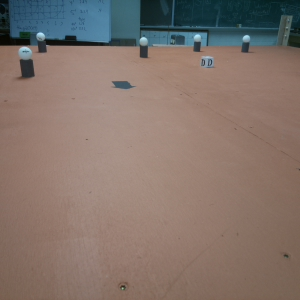blockD: (200, 55, 213, 68)
corner: (280, 15, 291, 47)
obstacle: (18, 46, 35, 78), (138, 37, 151, 59), (35, 32, 46, 53), (241, 34, 250, 53), (194, 34, 202, 52)
start: (110, 78, 135, 91)
